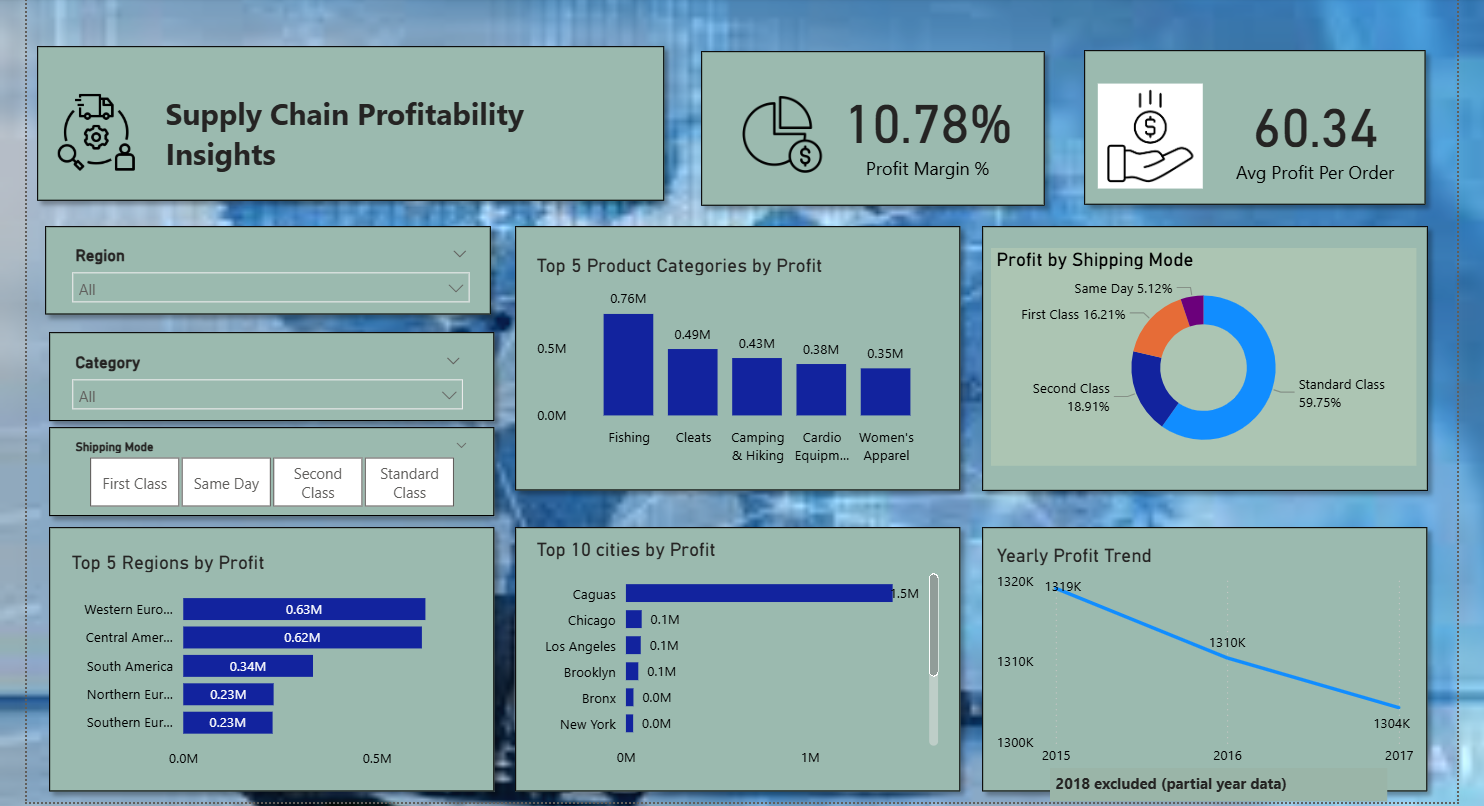

This screenshot's page, from the dashboard's own definition file:
{"tool":"powerbi","page":{"name":"Profitable Analysis","canvas":[1280,720],"ordinal":1},"visuals":[{"type":"shape","box":[6.8,195.5,417.3,97.3],"z":0},{"type":"shape","box":[0,34,579.7,156.6],"z":1000},{"type":"shape","box":[594.3,38.9,325.8,156.6],"z":2000},{"type":"shape","box":[937.6,37.9,323.9,156.6],"z":3000},{"type":"shape","box":[10.9,465.2,416.8,254.8],"z":4000},{"type":"barChart","title":"Top 5 Regions by Profit","fields":{"Category":["Supply chain data.Order Region"],"Y":["Sum(Supply chain data.Order Profit Per Order)"]},"box":[34.6,494.8,369.4,203.5],"z":5000},{"type":"shape","box":[427.7,195.6,416.8,254.8],"z":6000},{"type":"columnChart","title":"Top 5 Product Categories by Profit","fields":{"Category":["Supply chain data.Category Name"],"Y":["Sum(Supply chain data.Order Profit Per Order)"]},"box":[451.4,229.1,369.4,195.6],"z":7000},{"type":"shape","box":[427.7,465.2,416.8,254.8],"z":8000},{"type":"clusteredBarChart","title":"Top 10 cities by Profit","fields":{"Category":["Supply chain data.Customer City"],"Y":["Sum(Supply chain data.Order Profit Per Order)"]},"box":[451.3,483.4,369.6,215],"z":9000},{"type":"shape","box":[846.4,465.2,416.8,254.8],"z":10000},{"type":"lineChart","title":"Yearly Profit Trend","fields":{"Category":["Supply chain data.order date (DateOrders).Variation.Date Hierarchy.Year","Supply chain data.order date (DateOrders).Variation.Date Hierarchy.Quarter","Supply chain data.order date (DateOrders).Variation.Date Hierarchy.Month","Supply chain data.order date (DateOrders).Variation.Date Hierarchy.Day"],"Y":["Sum(Supply chain data.Order Profit Per Order)"]},"box":[863.2,488.9,383.2,207.4],"z":11000},{"type":"shape","box":[10.9,290.4,416.8,97.8],"z":12000},{"type":"shape","box":[10.9,375.3,416.8,97.8],"z":13000},{"type":"slicer","fields":{"Values":["Supply chain data.Order Region"]},"box":[30.6,217.3,376.3,57.3],"z":14000},{"type":"slicer","fields":{"Values":["Supply chain data.Category Name"]},"box":[30.6,313.1,370.4,58.3],"z":15000},{"type":"slicer","fields":{"Values":["Supply chain data.Shipping Mode"]},"box":[30.6,390.1,376.3,66.2],"z":16000},{"type":"textbox","box":[118.7,79.8,417.3,87.5],"z":17000},{"type":"image","box":[21.4,79.8,80.7,81.7],"z":18000},{"type":"card","fields":{"Values":["Supply chain data.Profit Margin %"]},"box":[721.8,59.1,169.3,116.4],"z":19000},{"type":"card","fields":{"Values":["Supply chain data.Avg Profit Per Order"]},"box":[1061.2,65.2,184.8,111.9],"z":20000},{"type":"image","box":[631.2,75.9,90.5,91.4],"z":21000},{"type":"image","box":[952.2,72,108.9,104.1],"z":22000},{"type":"shape","box":[846.3,195.2,417.3,255.2],"z":23000},{"type":"donutChart","title":" Profit by Shipping Mode","fields":{"Category":["Supply chain data.Shipping Mode"],"Y":["Sum(Supply chain data.Order Profit Per Order)"]},"box":[863.3,223.9,380.6,195.2],"z":24000},{"type":"textbox","box":[916.1,689.6,301.8,30.4],"z":25000}]}

Visuals, with their boxes on the page's 1280x720 design canvas (x1, y1, x2, y2). These are canvas units, not pixel positions in the 1484x806 screenshot, which may show the page scaled, cropped or inside an application window:
shape: 7,196,424,293
shape: 0,34,580,191
shape: 594,39,920,196
shape: 938,38,1262,194
shape: 11,465,428,720
"Top 5 Regions by Profit" barChart: 35,495,404,698
shape: 428,196,844,450
"Top 5 Product Categories by Profit" columnChart: 451,229,821,425
shape: 428,465,844,720
"Top 10 cities by Profit" clusteredBarChart: 451,483,821,698
shape: 846,465,1263,720
"Yearly Profit Trend" lineChart: 863,489,1246,696
shape: 11,290,428,388
shape: 11,375,428,473
slicer - Supply chain data.Order Region: 31,217,407,275
slicer - Supply chain data.Category Name: 31,313,401,371
slicer - Supply chain data.Shipping Mode: 31,390,407,456
textbox: 119,80,536,167
image: 21,80,102,162
card - Supply chain data.Profit Margin %: 722,59,891,176
card - Supply chain data.Avg Profit Per Order: 1061,65,1246,177
image: 631,76,722,167
image: 952,72,1061,176
shape: 846,195,1264,450
" Profit by Shipping Mode" donutChart: 863,224,1244,419
textbox: 916,690,1218,720
